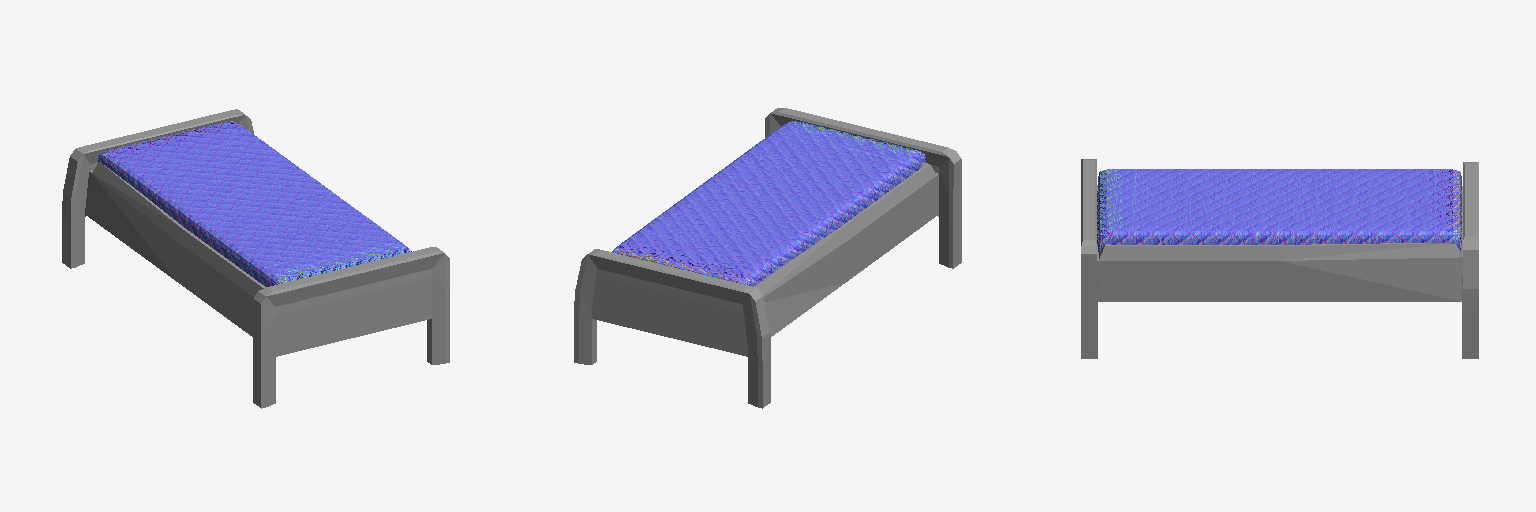
3 renders of one model, left to right at view 1: azimuth 30°, elevation 25°; view 2: azimuth 150°, elevation 25°; view 3: azimuth 270°, elevation 25°, orthographic.
Parts seen in each view (by area): view 1: CamaStruc_Cube.002, colchon.low_Cube.004; view 2: CamaStruc_Cube.002, colchon.low_Cube.004; view 3: CamaStruc_Cube.002, colchon.low_Cube.004.
Boxes of the visible parts, x1=… form: CamaStruc_Cube.002: x1=62, y1=109, x2=449, y2=408; colchon.low_Cube.004: x1=97, y1=121, x2=411, y2=286; CamaStruc_Cube.002: x1=574, y1=108, x2=961, y2=408; colchon.low_Cube.004: x1=612, y1=121, x2=925, y2=286; CamaStruc_Cube.002: x1=1081, y1=159, x2=1478, y2=358; colchon.low_Cube.004: x1=1097, y1=169, x2=1461, y2=251.
Size of the model in its own units: 3.77 by 2.17 by 6.91.
Materials: 2 (1 with a texture image).